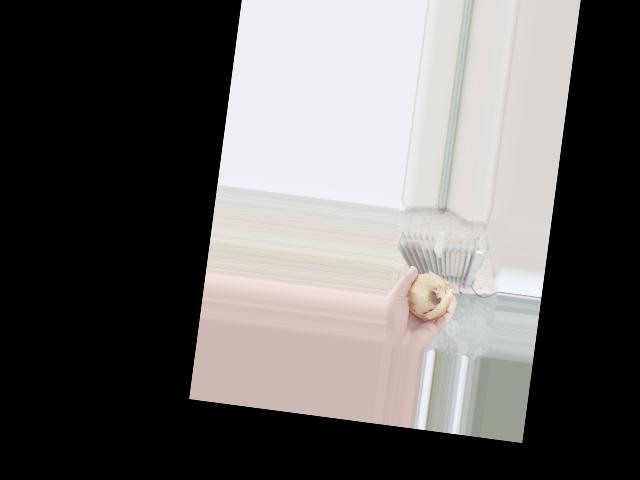onion: (401, 268, 453, 331)
